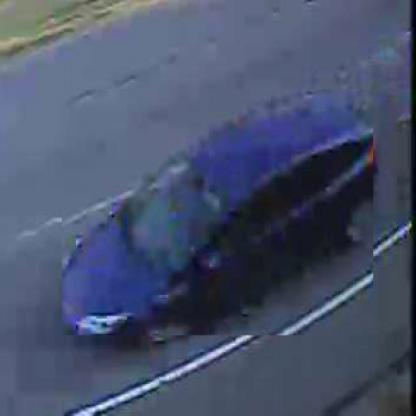car: (62, 90, 374, 338)
